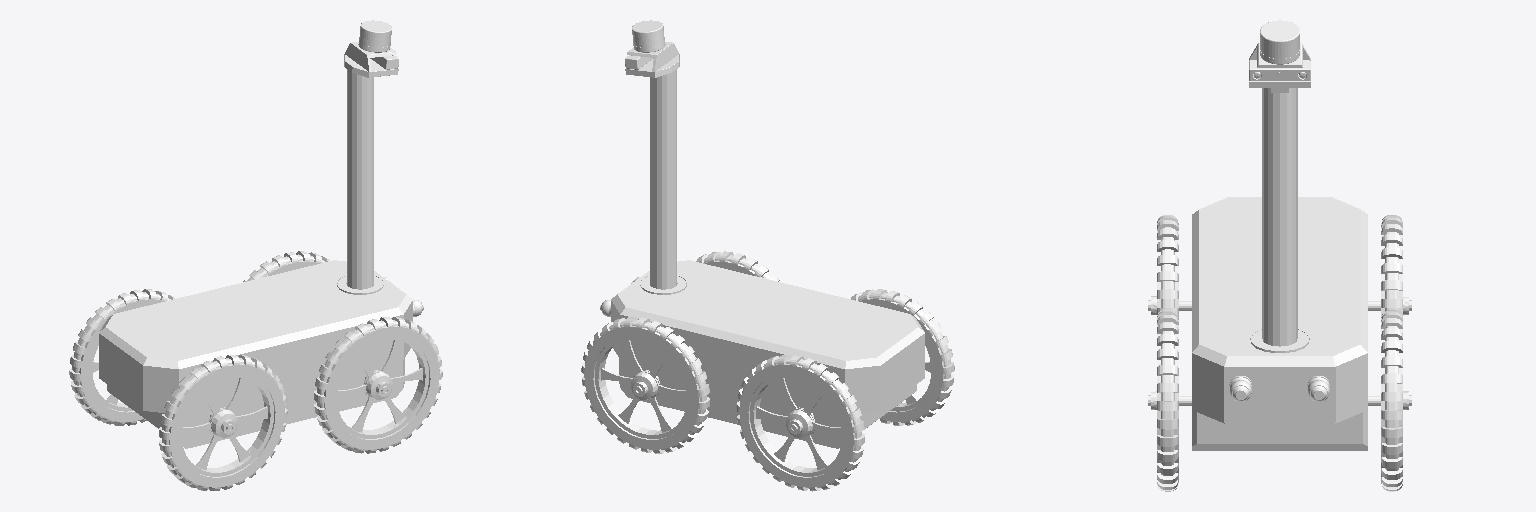
robot.urdf — robot1_description:
<?xml version="1.0" encoding="utf-8"?>
<!-- This URDF was automatically created by SolidWorks to URDF Exporter! Originally created by [author] ([email redacted]) 
     Commit Version: 1.5.1-0-g916b5db  Build Version: 1.5.7152.31018
     For more information, please see http://wiki.ros.org/sw_urdf_exporter -->
<robot
  name="robot1_description">
  <link
    name="base_link">
    <inertial>
      <origin
        xyz="-0.015984 -0.00012141 0.15362"
        rpy="0 0 0" />
      <mass
        value="61.482" />
      <inertia
        ixx="1.3604"
        ixy="-0.011898"
        ixz="0.033248"
        iyy="3.3702"
        iyz="-0.00058691"
        izz="3.9879" />
    </inertial>
    <visual>
      <origin
        xyz="0 0 0"
        rpy="0 0 0" />
      <geometry>
        <mesh
          filename="package://robot1_description/meshes/base_link.STL" />
      </geometry>
      <material
        name="">
        <color
          rgba="1 1 1 1" />
      </material>
    </visual>
    <collision>
      <origin
        xyz="0 0 0"
        rpy="0 0 0" />
      <geometry>
        <mesh
          filename="package://robot1_description/meshes/base_link.STL" />
      </geometry>
    </collision>
  </link>
  <link
    name="wheel1_link">
    <inertial>
      <origin
        xyz="2.8205E-08 -0.019536 1.1834E-07"
        rpy="0 0 0" />
      <mass
        value="4.1241" />
      <inertia
        ixx="0.075369"
        ixy="-1.6738E-08"
        ixz="1.9084E-08"
        iyy="0.14899"
        iyz="1.6397E-08"
        izz="0.075369" />
    </inertial>
    <visual>
      <origin
        xyz="0 0 0"
        rpy="0 0 0" />
      <geometry>
        <mesh
          filename="package://robot1_description/meshes/wheel1_link.STL" />
      </geometry>
      <material
        name="">
        <color
          rgba="1 1 1 1" />
      </material>
    </visual>
    <collision>
      <origin
        xyz="0 0 0"
        rpy="0 0 0" />
      <geometry>
        <mesh
          filename="package://robot1_description/meshes/wheel1_link.STL" />
      </geometry>
    </collision>
  </link>
  <joint
    name="wheel1_joint"
    type="continuous">
    <origin
      xyz="0.288 0.3075 0.094"
      rpy="0 0 0" />
    <parent
      link="base_link" />
    <child
      link="wheel1_link" />
    <axis
      xyz="0 1 0" />
  </joint>
  <link
    name="wheel2_link">
    <inertial>
      <origin
        xyz="-9.3542E-10 -0.019537 -2.4308E-08"
        rpy="0 0 0" />
      <mass
        value="4.1241" />
      <inertia
        ixx="0.075369"
        ixy="-9.2393E-10"
        ixz="1.8274E-08"
        iyy="0.14899"
        iyz="2.167E-08"
        izz="0.075369" />
    </inertial>
    <visual>
      <origin
        xyz="0 0 0"
        rpy="0 0 0" />
      <geometry>
        <mesh
          filename="package://robot1_description/meshes/wheel2_link.STL" />
      </geometry>
      <material
        name="">
        <color
          rgba="1 1 1 1" />
      </material>
    </visual>
    <collision>
      <origin
        xyz="0 0 0"
        rpy="0 0 0" />
      <geometry>
        <mesh
          filename="package://robot1_description/meshes/wheel2_link.STL" />
      </geometry>
    </collision>
  </link>
  <joint
    name="wheel2_joint"
    type="continuous">
    <origin
      xyz="-0.288 0.3075 0.094"
      rpy="0 0 0" />
    <parent
      link="base_link" />
    <child
      link="wheel2_link" />
    <axis
      xyz="0 1 0" />
  </joint>
  <link
    name="wheel3_link">
    <inertial>
      <origin
        xyz="-2.8844E-09 0.019537 -2.4145E-08"
        rpy="0 0 0" />
      <mass
        value="4.1241" />
      <inertia
        ixx="0.075369"
        ixy="-7.1906E-10"
        ixz="-1.4728E-08"
        iyy="0.14899"
        iyz="-2.1679E-08"
        izz="0.075369" />
    </inertial>
    <visual>
      <origin
        xyz="0 0 0"
        rpy="0 0 0" />
      <geometry>
        <mesh
          filename="package://robot1_description/meshes/wheel3_link.STL" />
      </geometry>
      <material
        name="">
        <color
          rgba="1 1 1 1" />
      </material>
    </visual>
    <collision>
      <origin
        xyz="0 0 0"
        rpy="0 0 0" />
      <geometry>
        <mesh
          filename="package://robot1_description/meshes/wheel3_link.STL" />
      </geometry>
    </collision>
  </link>
  <joint
    name="wheel3_joint"
    type="continuous">
    <origin
      xyz="0.288 -0.3075 0.094"
      rpy="0 0 0" />
    <parent
      link="base_link" />
    <child
      link="wheel3_link" />
    <axis
      xyz="0 -1 0" />
  </joint>
  <link
    name="wheel4_link">
    <inertial>
      <origin
        xyz="-2.3336E-08 0.019537 4.4299E-09"
        rpy="0 0 0" />
      <mass
        value="4.1241" />
      <inertia
        ixx="0.075369"
        ixy="-1.7968E-08"
        ixz="-1.9023E-08"
        iyy="0.14899"
        iyz="1.2379E-08"
        izz="0.075369" />
    </inertial>
    <visual>
      <origin
        xyz="0 0 0"
        rpy="0 0 0" />
      <geometry>
        <mesh
          filename="package://robot1_description/meshes/wheel4_link.STL" />
      </geometry>
      <material
        name="">
        <color
          rgba="1 1 1 1" />
      </material>
    </visual>
    <collision>
      <origin
        xyz="0 0 0"
        rpy="0 0 0" />
      <geometry>
        <mesh
          filename="package://robot1_description/meshes/wheel4_link.STL" />
      </geometry>
    </collision>
  </link>
  <joint
    name="wheel4_joint"
    type="continuous">
    <origin
      xyz="-0.288 -0.3075 0.094"
      rpy="0 0 0" />
    <parent
      link="base_link" />
    <child
      link="wheel4_link" />
    <axis
      xyz="0 -1 0" />
  </joint>
  <link
    name="column_link">
    <inertial>
      <origin
        xyz="-7.8117E-05 3.5252E-08 0.37224"
        rpy="0 0 0" />
      <mass
        value="5.0542" />
      <inertia
        ixx="0.26842"
        ixy="-1.1974E-08"
        ixz="0.00015689"
        iyy="0.26842"
        iyz="-5.5179E-08"
        izz="0.0051173" />
    </inertial>
    <visual>
      <origin
        xyz="0 0 0"
        rpy="0 0 0" />
      <geometry>
        <mesh
          filename="package://robot1_description/meshes/column_link.STL" />
      </geometry>
      <material
        name="">
        <color
          rgba="1 1 1 1" />
      </material>
    </visual>
    <collision>
      <origin
        xyz="0 0 0"
        rpy="0 0 0" />
      <geometry>
        <mesh
          filename="package://robot1_description/meshes/column_link.STL" />
      </geometry>
    </collision>
  </link>
  <joint
    name="column_joint"
    type="fixed">
    <origin
      xyz="0.388 0 0.31"
      rpy="0 0 0" />
    <parent
      link="base_link" />
    <child
      link="column_link" />
  </joint>
  <link
    name="bevel_link">
    <inertial>
      <origin
        xyz="0.0017035 2.0219E-08 0.024324"
        rpy="0 0 0" />
      <mass
        value="0.59708" />
      <inertia
        ixx="0.0013871"
        ixy="-1.7408E-10"
        ixz="4.1626E-05"
        iyy="0.0011567"
        iyz="-2.5096E-10"
        izz="0.0018827" />
    </inertial>
    <visual>
      <origin
        xyz="0 0 0"
        rpy="0 0 0" />
      <geometry>
        <mesh
          filename="package://robot1_description/meshes/bevel_link.STL" />
      </geometry>
      <material
        name="">
        <color
          rgba="1 1 1 1" />
      </material>
    </visual>
    <collision>
      <origin
        xyz="0 0 0"
        rpy="0 0 0" />
      <geometry>
        <mesh
          filename="package://robot1_description/meshes/bevel_link.STL" />
      </geometry>
    </collision>
  </link>
  <joint
    name="bevel_joint"
    type="fixed">
    <origin
      xyz="0.02894 0 0.76592"
      rpy="0 0 0" />
    <parent
      link="column_link" />
    <child
      link="bevel_link" />
  </joint>
  <link
    name="imu_link">
    <inertial>
      <origin
        xyz="0.00085309 2.7756E-17 0.0069478"
        rpy="0 0 0" />
      <mass
        value="0.0289" />
      <inertia
        ixx="5.8426E-06"
        ixy="-5.2902E-22"
        ixz="5.0592E-07"
        iyy="5.1238E-06"
        iyz="1.4634E-22"
        izz="9.9009E-06" />
    </inertial>
    <visual>
      <origin
        xyz="0 0 0"
        rpy="0 0 0" />
      <geometry>
        <mesh
          filename="package://robot1_description/meshes/imu_link.STL" />
      </geometry>
      <material
        name="">
        <color
          rgba="1 1 1 1" />
      </material>
    </visual>
    <collision>
      <origin
        xyz="0 0 0"
        rpy="0 0 0" />
      <geometry>
        <mesh
          filename="package://robot1_description/meshes/imu_link.STL" />
      </geometry>
    </collision>
  </link>
  <joint
    name="imu_joint"
    type="fixed">
    <origin
      xyz="0.041475 0 -0.019198"
      rpy="0 0 0" />
    <parent
      link="bevel_link" />
    <child
      link="imu_link" />
  </joint>
  <link
    name="camera_link">
    <inertial>
      <origin
        xyz="-0.021158 -2.7756E-17 0.01999"
        rpy="0 0 0" />
      <mass
        value="0.25858" />
      <inertia
        ixx="0.00054733"
        ixy="-1.4454E-19"
        ixz="2.3977E-06"
        iyy="7.5957E-05"
        iyz="2.8085E-20"
        izz="0.00056624" />
    </inertial>
    <visual>
      <origin
        xyz="0 0 0"
        rpy="0 0 0" />
      <geometry>
        <mesh
          filename="package://robot1_description/meshes/camera_link.STL" />
      </geometry>
      <material
        name="">
        <color
          rgba="1 1 1 1" />
      </material>
    </visual>
    <collision>
      <origin
        xyz="0 0 0"
        rpy="0 0 0" />
      <geometry>
        <mesh
          filename="package://robot1_description/meshes/camera_link.STL" />
      </geometry>
    </collision>
  </link>
  <joint
    name="camera_joint"
    type="fixed">
    <origin
      xyz="0.066821 0 0.012678"
      rpy="0 0 0" />
    <parent
      link="bevel_link" />
    <child
      link="camera_link" />
  </joint>
  <link
    name="3dlaser_link">
    <inertial>
      <origin
        xyz="0.0040217 -2.7756E-17 0.032754"
        rpy="0 0 0" />
      <mass
        value="0.59289" />
      <inertia
        ixx="0.00064754"
        ixy="-4.5948E-20"
        ixz="1.5916E-05"
        iyy="0.00064558"
        iyz="2.6123E-20"
        izz="0.00077521" />
    </inertial>
    <visual>
      <origin
        xyz="0 0 0"
        rpy="0 0 0" />
      <geometry>
        <mesh
          filename="package://robot1_description/meshes/3dlaser_link.STL" />
      </geometry>
      <material
        name="">
        <color
          rgba="1 1 1 1" />
      </material>
    </visual>
    <collision>
      <origin
        xyz="0 0 0"
        rpy="0 0 0" />
      <geometry>
        <mesh
          filename="package://robot1_description/meshes/3dlaser_link.STL" />
      </geometry>
    </collision>
  </link>
  <joint
    name="3dlaser_joint"
    type="fixed">
    <origin
      xyz="0.022797 0 0.070749"
      rpy="0 0 0" />
    <parent
      link="bevel_link" />
    <child
      link="3dlaser_link" />
  </joint>

<gazebo reference="wheel1_link">
	<material>Gazebo/Black</material>
</gazebo>

<gazebo reference="wheel2_link">
	<material>Gazebo/Black</material>
</gazebo>

<gazebo reference="wheel3_link">
	<material>Gazebo/Black</material>
</gazebo>

<gazebo reference="wheel4_link">
	<material>Gazebo/Black</material>
</gazebo>

<gazebo reference="imu_link">
	<material>Gazebo/Red</material>
</gazebo>

<gazebo reference="camera_link">
	<material>Gazebo/Yellow</material>
</gazebo>

<gazebo reference="base_link">
	<material>Gazebo/Orange</material>
</gazebo>

<gazebo reference="column_link">
	<material>Gazebo/White</material>
</gazebo>

<gazebo reference="bevel_link">
	<material>Gazebo/White</material>
</gazebo>

<gazebo reference="3dlaser_link">
	<material>Gazebo/Blue</material>
</gazebo>
</robot>

--- Facts derived from the render (not from the file) ---
Views: 3 orthographic renders of the robot side by side, from view 1: azimuth 30°, elevation 25°; view 2: azimuth 150°, elevation 25°; view 3: azimuth 270°, elevation 25°.
Model robot1_description with 10 links and 9 joints (4 continuous, 5 fixed), rooted at base_link, posed all joints at 0.
Visible links, largest first — view 1: base_link, wheel3_link, wheel4_link, column_link, wheel2_link, bevel_link, wheel1_link, 3dlaser_link; view 2: base_link, wheel2_link, wheel1_link, column_link, wheel4_link, bevel_link, wheel3_link, 3dlaser_link; view 3: base_link, column_link, wheel1_link, wheel3_link, wheel4_link, wheel2_link, 3dlaser_link, bevel_link, camera_link.
Boxes of the visible links, <box> form: base_link: <box>99,260,423,448</box>; wheel3_link: <box>314,317,442,453</box>; wheel4_link: <box>159,355,287,490</box>; column_link: <box>347,69,373,289</box>; wheel2_link: <box>69,289,174,425</box>; bevel_link: <box>344,42,398,77</box>; wheel1_link: <box>243,251,329,281</box>; 3dlaser_link: <box>358,20,391,52</box>; base_link: <box>600,260,924,448</box>; wheel2_link: <box>736,355,864,491</box>; wheel1_link: <box>581,317,709,453</box>; column_link: <box>650,69,676,289</box>; wheel4_link: <box>849,289,954,425</box>; bevel_link: <box>625,42,679,77</box>; wheel3_link: <box>694,251,779,281</box>; 3dlaser_link: <box>632,20,665,52</box>; base_link: <box>1179,197,1380,450</box>; column_link: <box>1262,88,1297,346</box>; wheel1_link: <box>1381,310,1411,491</box>; wheel3_link: <box>1148,310,1178,491</box>; wheel4_link: <box>1148,215,1178,317</box>; wheel2_link: <box>1381,215,1411,317</box>; 3dlaser_link: <box>1260,20,1299,64</box>; bevel_link: <box>1249,43,1310,87</box>; camera_link: <box>1249,60,1310,80</box>.
Size in the robot's own frame: 1.08 by 0.676 by 1.36 metres.
Meshes: 10 distinct files referenced, 10 mesh visuals loaded (10 binary STL).